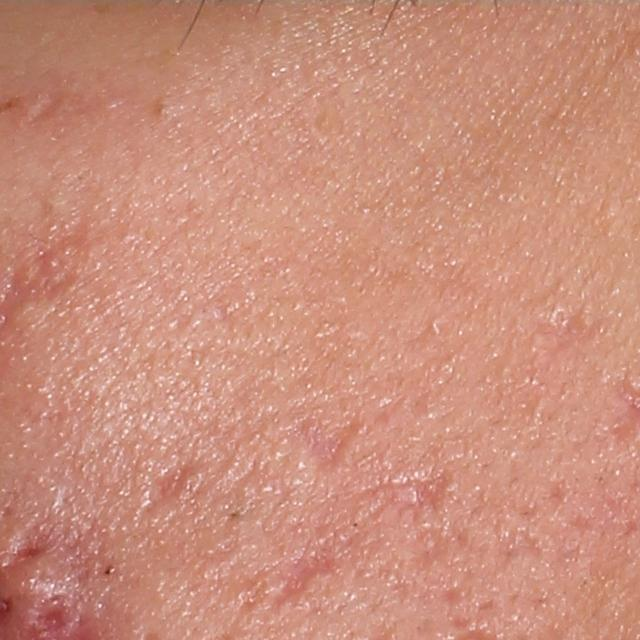atrophic_scar: (134, 459, 205, 526), (530, 310, 608, 366), (291, 417, 361, 476), (27, 79, 101, 126), (378, 470, 455, 512)
comedo: (153, 99, 177, 123)
